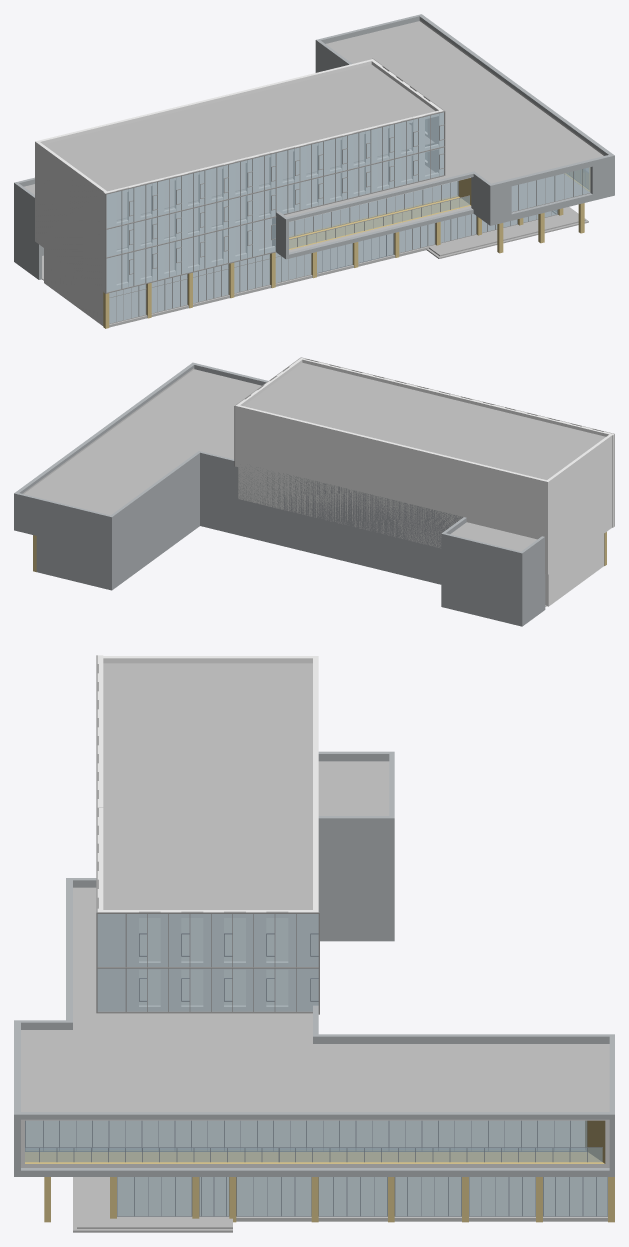
Rendered from lou06.fbx.
The picture shows the model from 3 angles, top to bottom: view 1: azimuth 30°, elevation 25°; view 2: azimuth 150°, elevation 25°; view 3: azimuth 270°, elevation 25°; orthographic projection. The views are drawn at different scales.
Visible parts, largest first — view 1: Obj3d66-1371392-3374-290; view 2: Obj3d66-1371392-3374-290; view 3: Obj3d66-1371392-3374-290.
Part boxes in pixels (x1,y1,x2,y2): Obj3d66-1371392-3374-290: [14, 14, 614, 328]; Obj3d66-1371392-3374-290: [14, 357, 614, 626]; Obj3d66-1371392-3374-290: [14, 655, 614, 1232].
Bounding box in the file's own units: 807 × 222 × 559.
